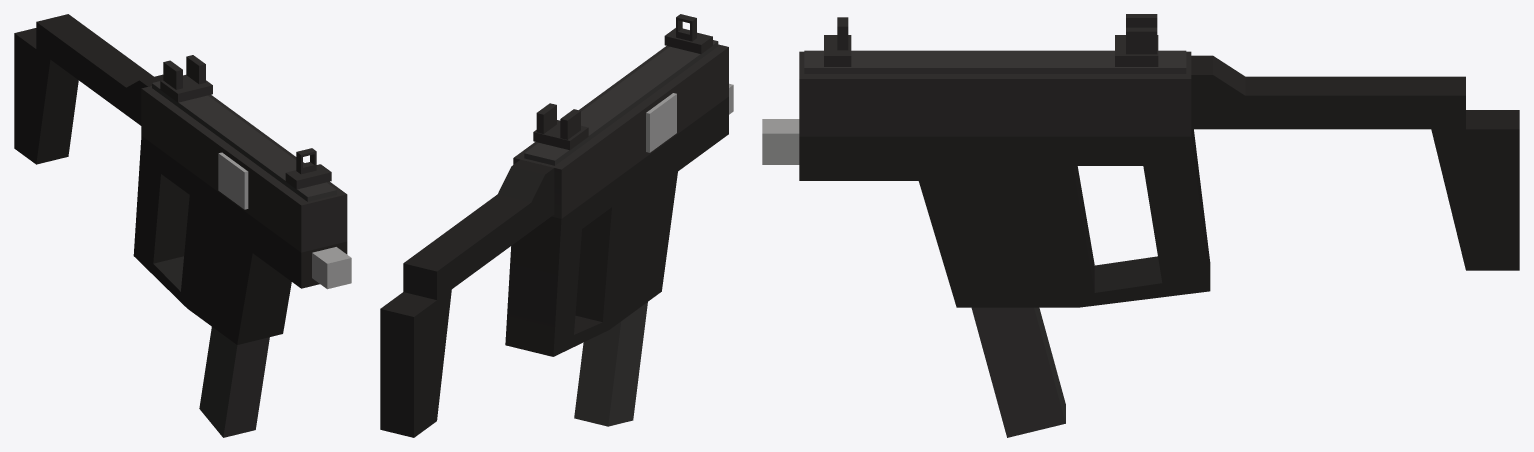
The model's file is SMGV.FBX.
3 views of the same model, side by side, from view 1: azimuth 30°, elevation 25°; view 2: azimuth 150°, elevation 25°; view 3: azimuth 270°, elevation 25° (orthographic). The views are drawn at different scales.
Parts seen in each view (by area): view 1: SMGV, SMGV_mag, SMGV_Sights; view 2: SMGV, SMGV_mag, SMGV_Sights; view 3: SMGV, SMGV_mag, SMGV_Sights.
Part boxes in pixels (left/top/right/bottom): SMGV: left=14, top=14, right=351, bottom=344; SMGV_mag: left=199, top=327, right=269, bottom=437; SMGV_Sights: left=160, top=55, right=331, bottom=189; SMGV: left=380, top=40, right=733, bottom=437; SMGV_mag: left=574, top=302, right=647, bottom=426; SMGV_Sights: left=533, top=14, right=712, bottom=150; SMGV: left=762, top=50, right=1519, bottom=307; SMGV_mag: left=971, top=307, right=1065, bottom=437; SMGV_Sights: left=824, top=14, right=1158, bottom=66.
Bounding box in the file's own units: 11.2 × 121 × 71.64.
